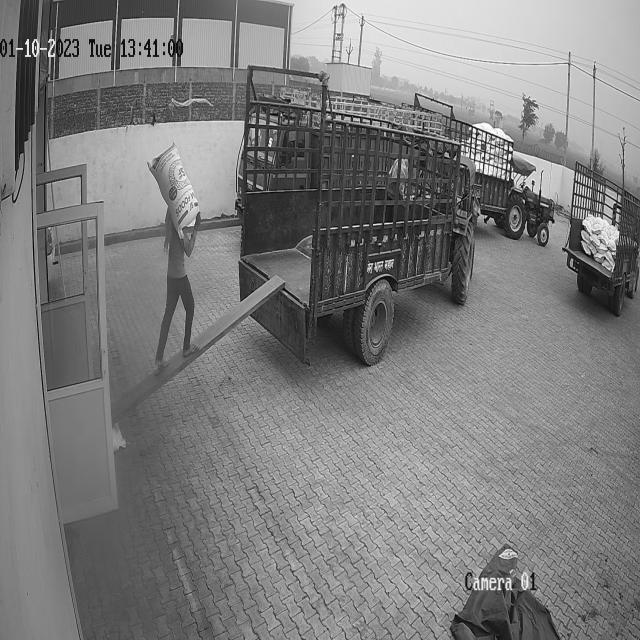sack: (146, 142, 198, 238)
